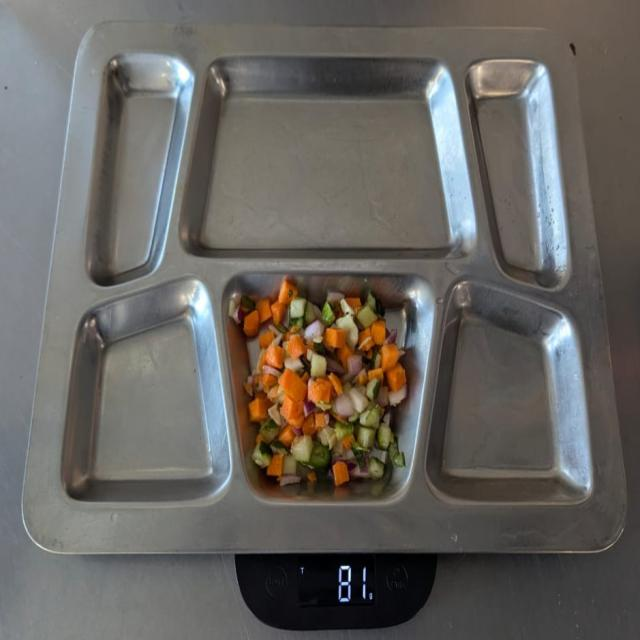Salad: (236, 276, 412, 491)
